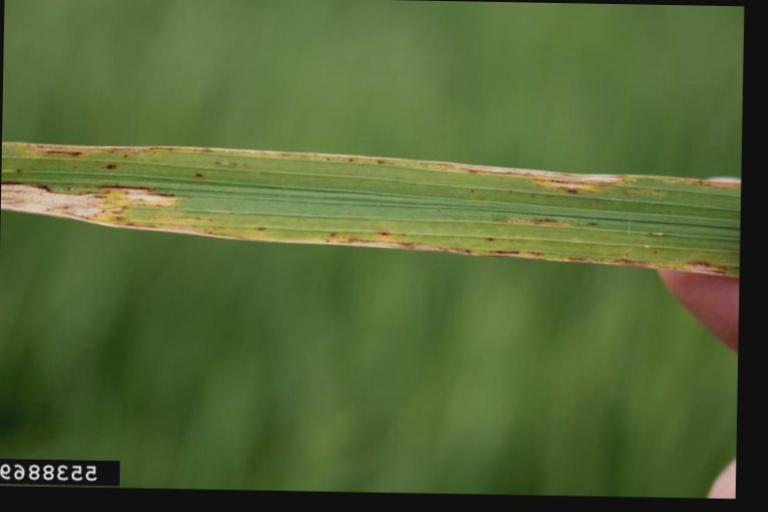Leaf_Blast: (0, 141, 740, 235)
